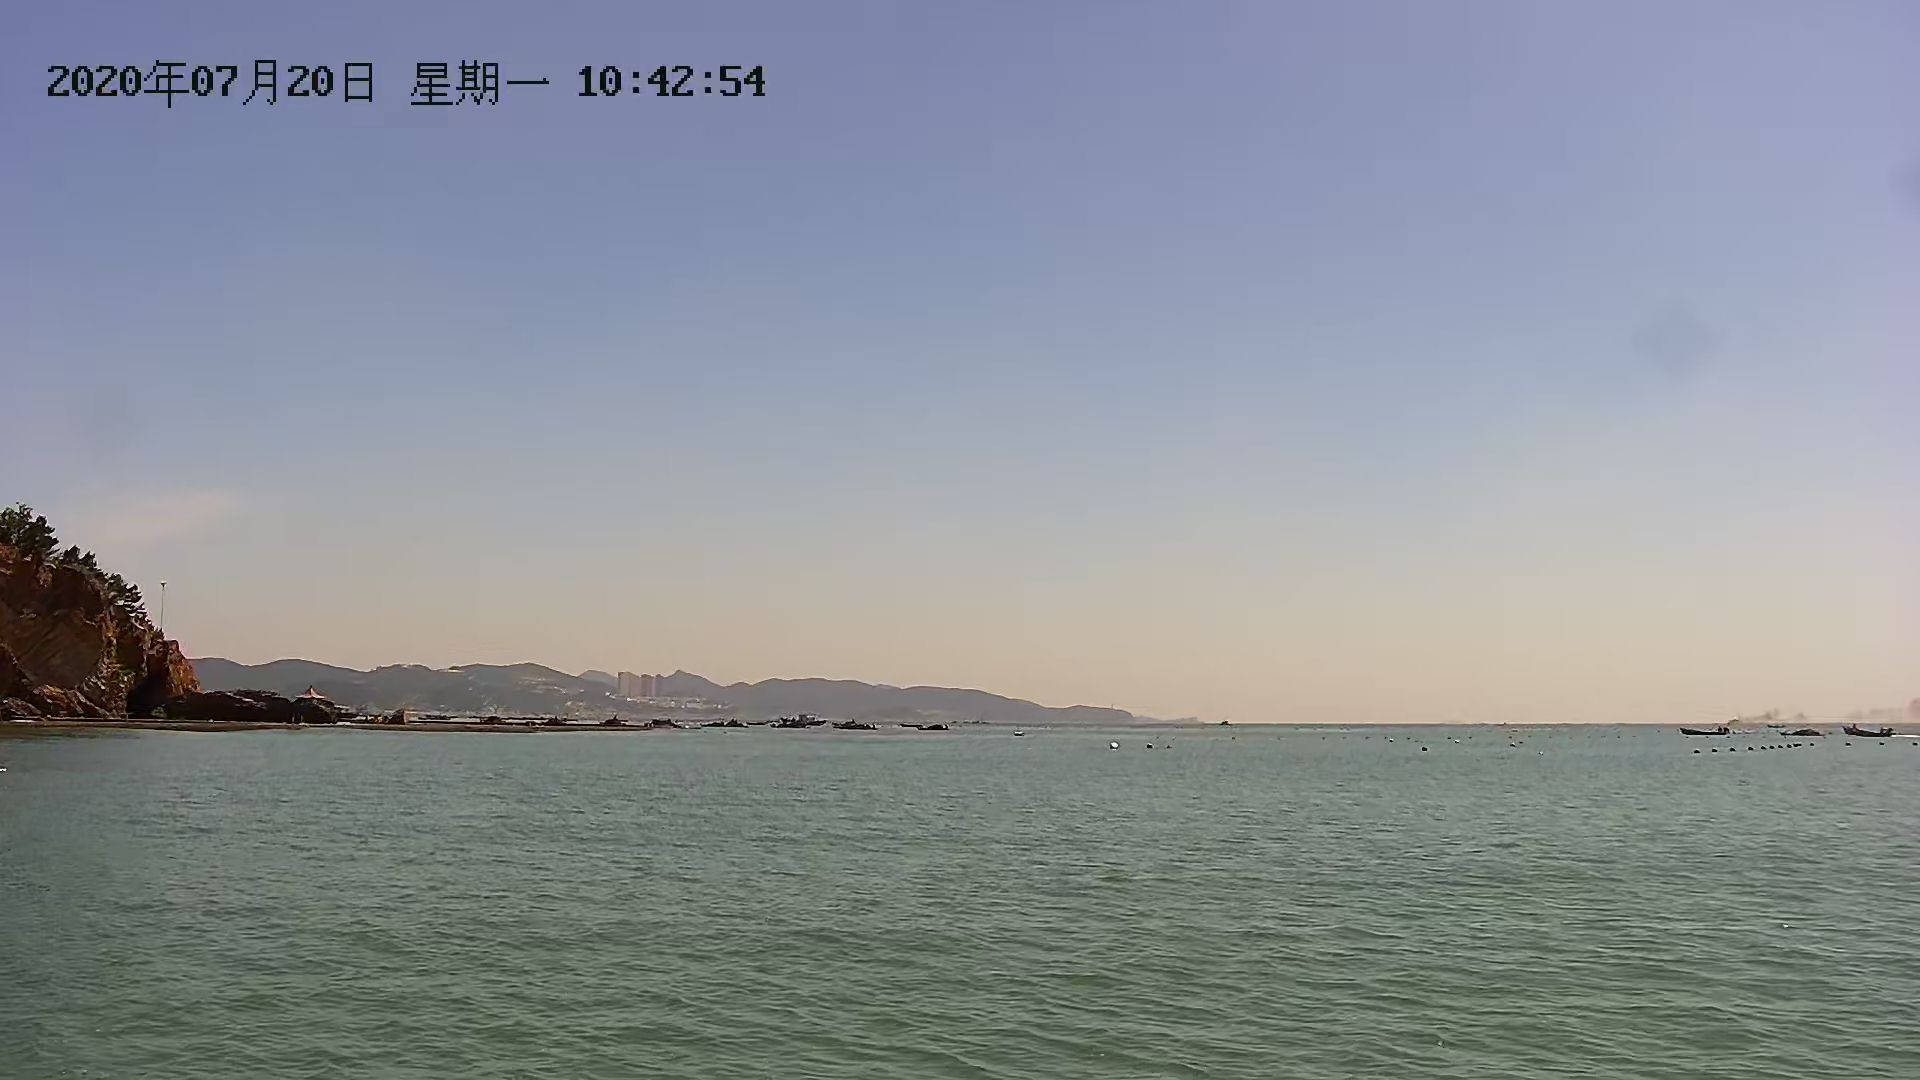boat: (1677, 717, 1733, 740), (1844, 723, 1902, 740)
rubbish: (1782, 725, 1825, 742), (914, 720, 953, 737), (843, 713, 872, 735)
